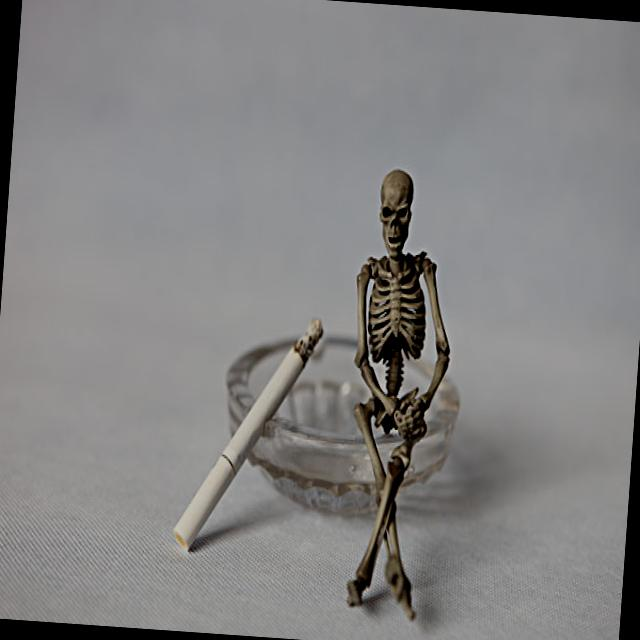cigarette: (170, 304, 326, 567)
